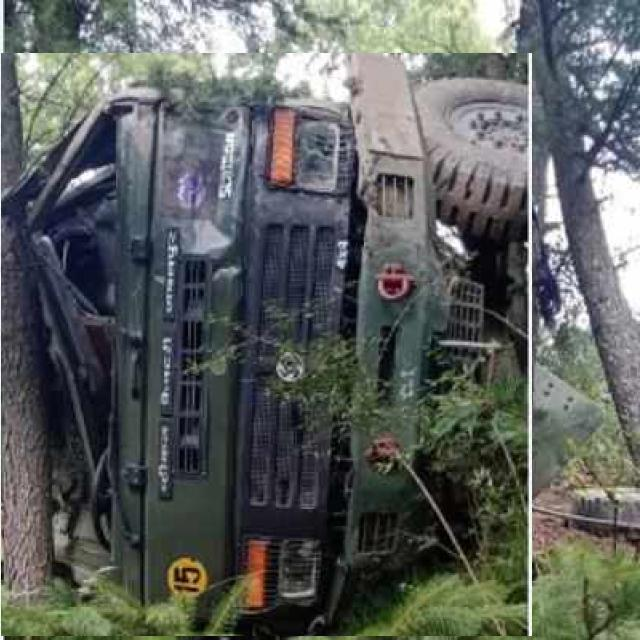accident: (0, 54, 532, 636)
